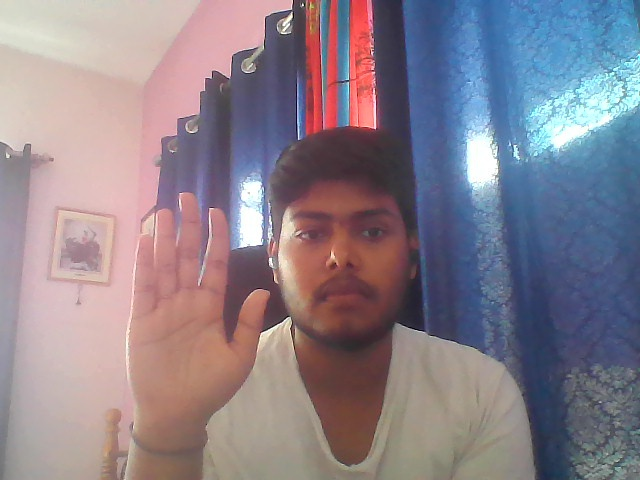Hello: (121, 189, 276, 436)
